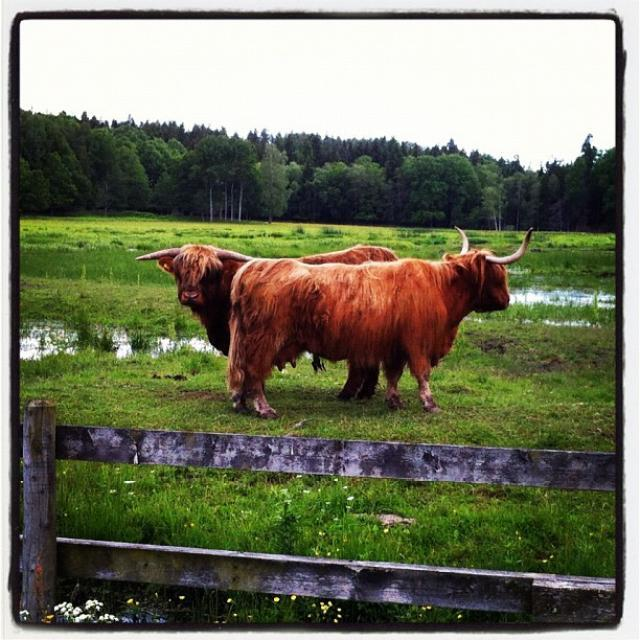cow: (226, 248, 524, 415), (137, 244, 391, 353)
